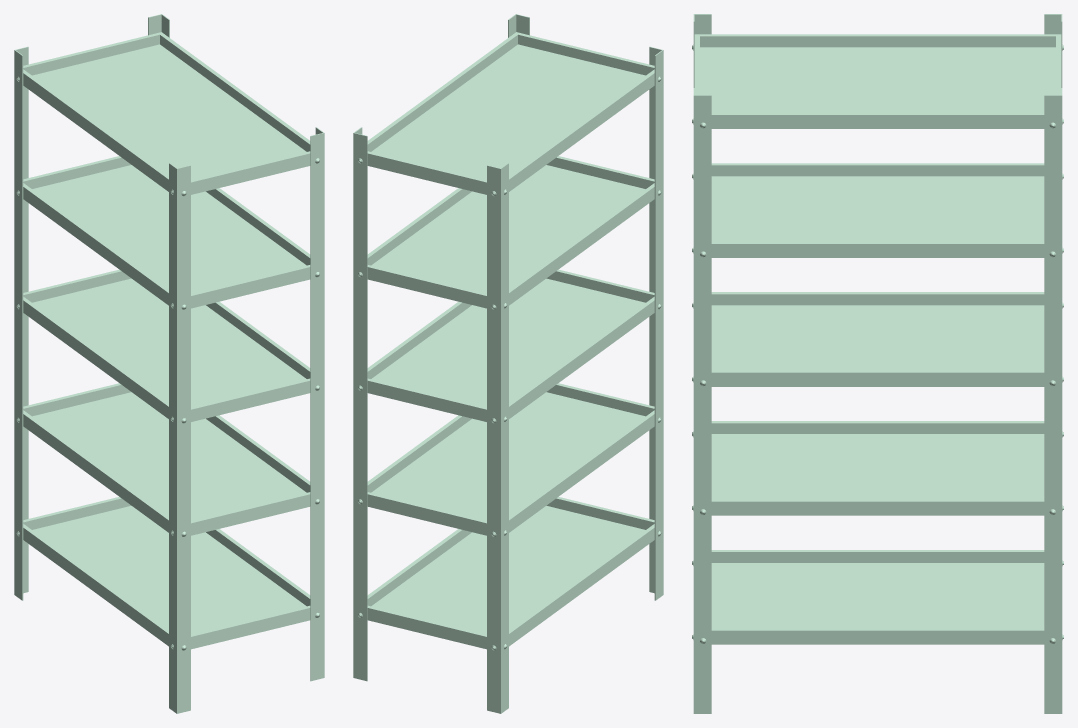
Rendered from shelves_reference_002.fbx.
3 views of the same model, side by side, from view 1: azimuth 30°, elevation 25°; view 2: azimuth 150°, elevation 25°; view 3: azimuth 270°, elevation 25° (orthographic). The views are drawn at different scales.
Visible parts, largest first — view 1: shelves_reference.002; view 2: shelves_reference.002; view 3: shelves_reference.002.
Boxes of the visible parts, box(x1,y1,x2,y2) form: shelves_reference.002: box(14, 14, 324, 713); shelves_reference.002: box(353, 14, 663, 713); shelves_reference.002: box(692, 14, 1063, 713).
Bounding box in the file's own units: 61.77 × 215 × 117.
